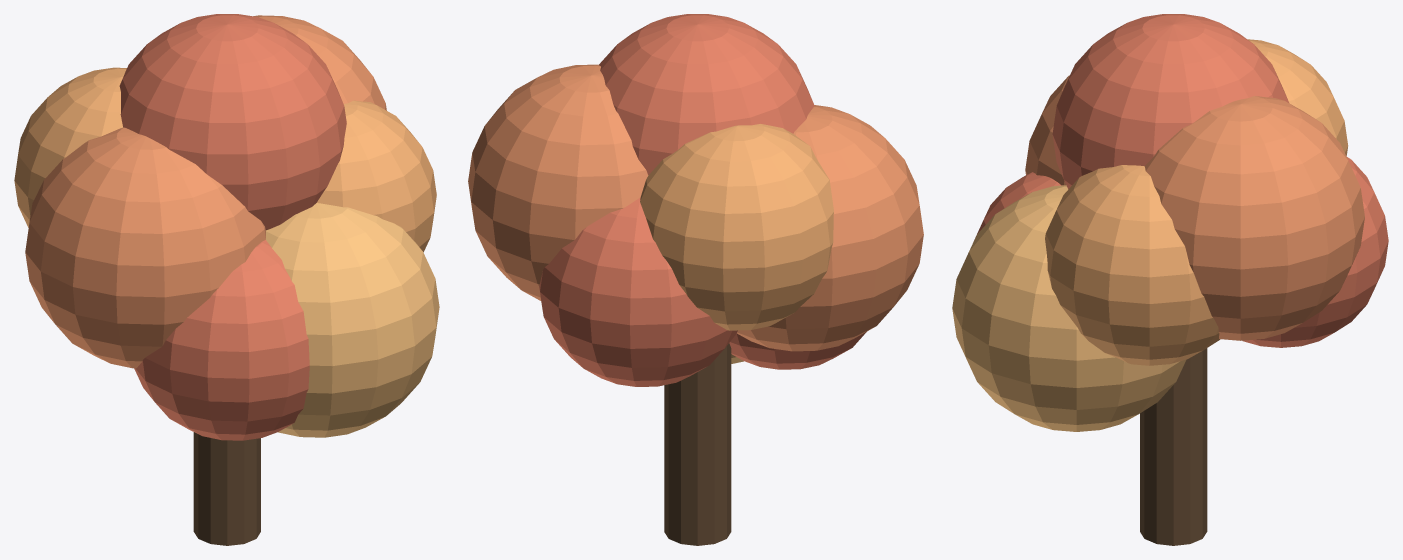
File: tree_momiji.glb
3 views of the same model, side by side, from view 1: azimuth 30°, elevation 25°; view 2: azimuth 150°, elevation 25°; view 3: azimuth 270°, elevation 25° (orthographic).
Visible parts, largest first — view 1: TreeMomiji; view 2: TreeMomiji; view 3: TreeMomiji.
Boxes of the visible parts, bbox=[...] form: TreeMomiji: bbox=[14, 14, 439, 545]; TreeMomiji: bbox=[468, 14, 923, 545]; TreeMomiji: bbox=[952, 14, 1388, 545].
Bounding box in the file's own units: 1.31 × 1.66 × 1.3.
